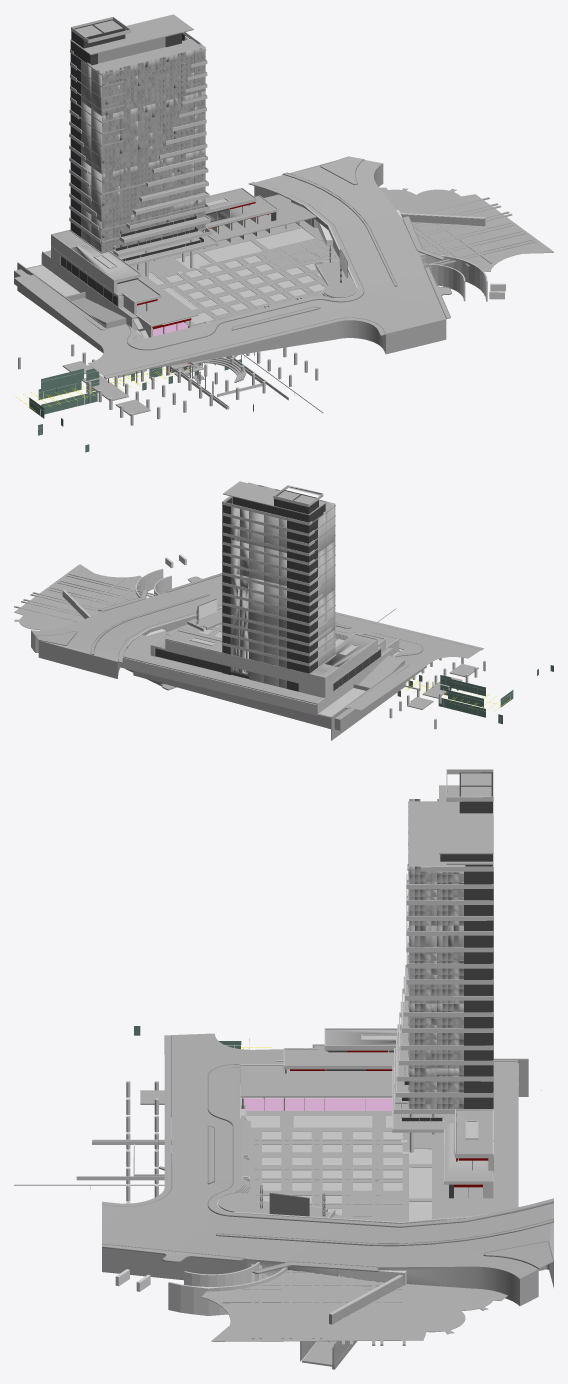
File: plaza-full.glb
The picture shows the model from 3 angles, top to bottom: view 1: azimuth 30°, elevation 25°; view 2: azimuth 150°, elevation 25°; view 3: azimuth 270°, elevation 25°; orthographic projection. The views are drawn at different scales.
Visible parts, largest first — view 1: SHELL__Material_1541173845, INTERIOR__01_-_Default, INTERIOR__Material_1541173878, SHELL__tiles, INTERIOR__tiles, SHELL__Material_1541173878, INTERIOR__Material_1541173809, SHELL__22_-_Default, SHELL__bol5, SHELL__Material_1541173809, INTERIOR__22_-_Default, SHELL__Rail_glass (+11 smaller); view 2: INTERIOR__01_-_Default, SHELL__Material_1541173845, INTERIOR__Material_1541173878, SHELL__tiles, SHELL__bol5, INTERIOR__tiles, INTERIOR__Material_1541173809, SHELL__22_-_Default, INTERIOR__bol5, SHELL__Rail_glass, SHELL__Material_1541173809, INTERIOR__glass (+8 smaller); view 3: SHELL__Material_1541173845, INTERIOR__01_-_Default, SHELL__tiles, INTERIOR__tiles, INTERIOR__Material_1541173878, SHELL__22_-_Default, INTERIOR__Material_1541173809, INTERIOR__bol5, INTERIOR__22_-_Default, SHELL__Material_1541173809, SHELL__curb, SHELL__01_-_Default (+7 smaller).
Part boxes in pixels (<box>): SHELL__Material_1541173845: <box>14,160,446,375</box>; INTERIOR__01_-_Default: <box>18,59,487,425</box>; INTERIOR__Material_1541173878: <box>81,36,204,253</box>; SHELL__tiles: <box>62,14,553,415</box>; INTERIOR__tiles: <box>44,63,356,367</box>; SHELL__Material_1541173878: <box>81,37,205,229</box>; INTERIOR__Material_1541173809: <box>14,216,443,352</box>; SHELL__22_-_Default: <box>127,182,536,349</box>; SHELL__bol5: <box>70,19,181,237</box>; SHELL__Material_1541173809: <box>104,156,450,378</box>; INTERIOR__22_-_Default: <box>163,213,492,317</box>; SHELL__Rail_glass: <box>29,359,253,452</box>; INTERIOR__01_-_Default: <box>63,512,485,729</box>; SHELL__Material_1541173845: <box>31,575,481,710</box>; INTERIOR__Material_1541173878: <box>230,498,335,688</box>; SHELL__tiles: <box>14,481,478,709</box>; SHELL__bol5: <box>232,490,325,691</box>; INTERIOR__tiles: <box>123,509,400,704</box>; INTERIOR__Material_1541173809: <box>99,589,426,740</box>; SHELL__22_-_Default: <box>14,573,422,663</box>; INTERIOR__bol5: <box>222,498,232,674</box>; SHELL__Rail_glass: <box>397,665,553,723</box>; SHELL__Material_1541173809: <box>35,573,483,689</box>; INTERIOR__glass: <box>154,648,380,691</box>; SHELL__Material_1541173845: <box>102,1033,553,1305</box>; INTERIOR__01_-_Default: <box>126,816,518,1315</box>; SHELL__tiles: <box>140,773,507,1366</box>; INTERIOR__tiles: <box>218,817,518,1221</box>; INTERIOR__Material_1541173878: <box>408,872,463,1108</box>; SHELL__22_-_Default: <box>208,1064,553,1345</box>; INTERIOR__Material_1541173809: <box>208,1058,528,1272</box>; INTERIOR__bol5: <box>449,865,493,1198</box>; INTERIOR__22_-_Default: <box>222,1130,402,1303</box>; SHELL__Material_1541173809: <box>102,1035,552,1362</box>; SHELL__curb: <box>102,1035,553,1269</box>; SHELL__01_-_Default: <box>76,769,493,1180</box>.
Bounding box in the file's own units: 162 × 89.61 × 107.
